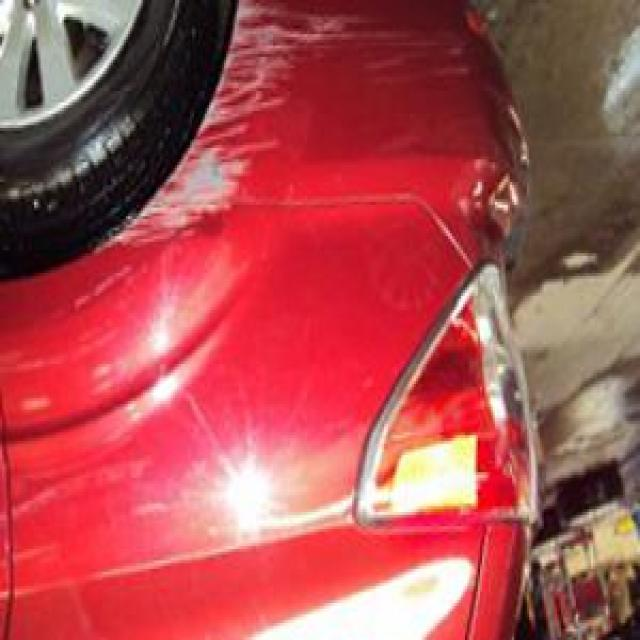scratch: (102, 1, 346, 258)
